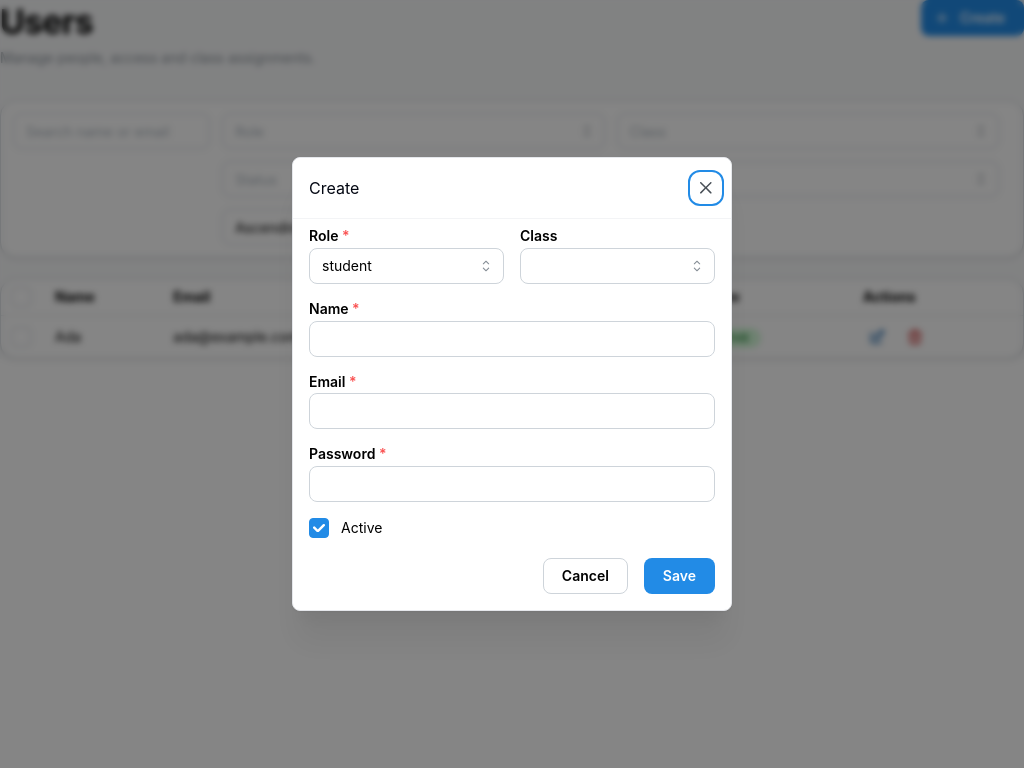
UsersPage filtering › closes the student create modal opened from a dashboard quick action
Expected: the dialog is shown, [292,157,732,611]
Expected: the dropdown showing "student" is shown, [309,248,504,284]
What coordinates should you click on to do the following:
click the button "Cancel"
I would click on:
 (585, 576)
Its box is [543,558,628,594].
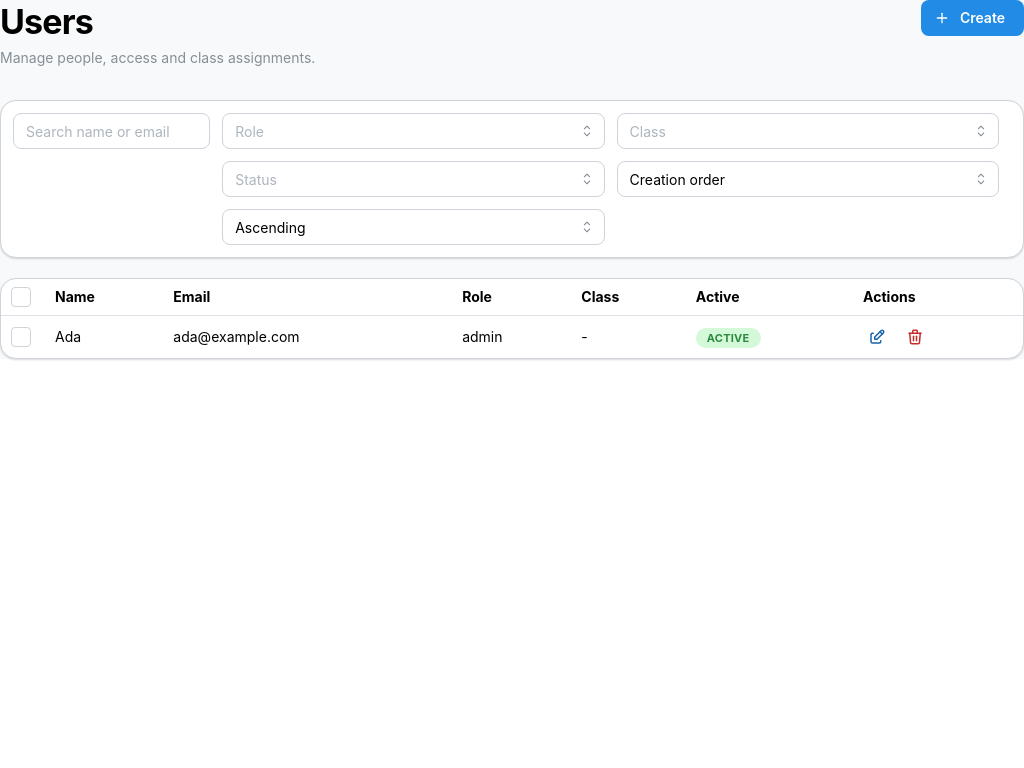
Now the dialog is gone
